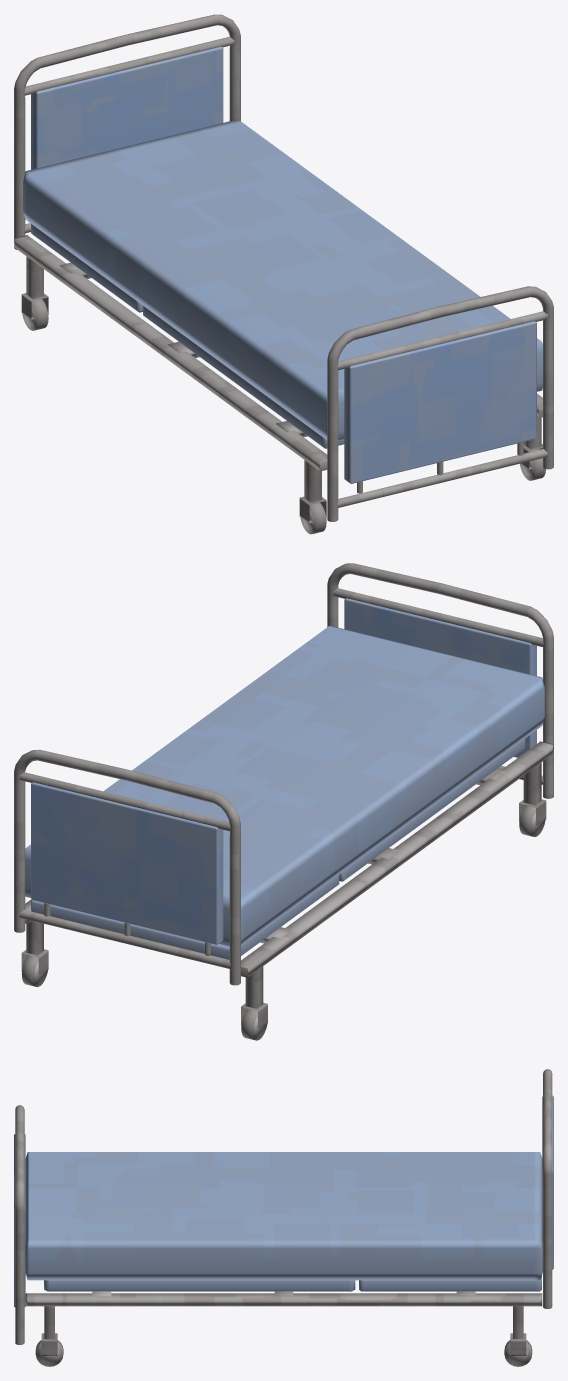
File: Env_HospitalBed_01.fbx
3 views of the same model, one above another, from view 1: azimuth 30°, elevation 25°; view 2: azimuth 150°, elevation 25°; view 3: azimuth 270°, elevation 25° (orthographic). The views are drawn at different scales.
Visible parts, largest first — view 1: Env_HospitalBed_01; view 2: Env_HospitalBed_01; view 3: Env_HospitalBed_01.
Boxes of the visible parts, x1,y1,x2,y2 form: Env_HospitalBed_01: (14,14,553,534); Env_HospitalBed_01: (14,563,553,1040); Env_HospitalBed_01: (14,1069,553,1366).
Size of the model in its own units: 88.52 by 90.71 by 207.
